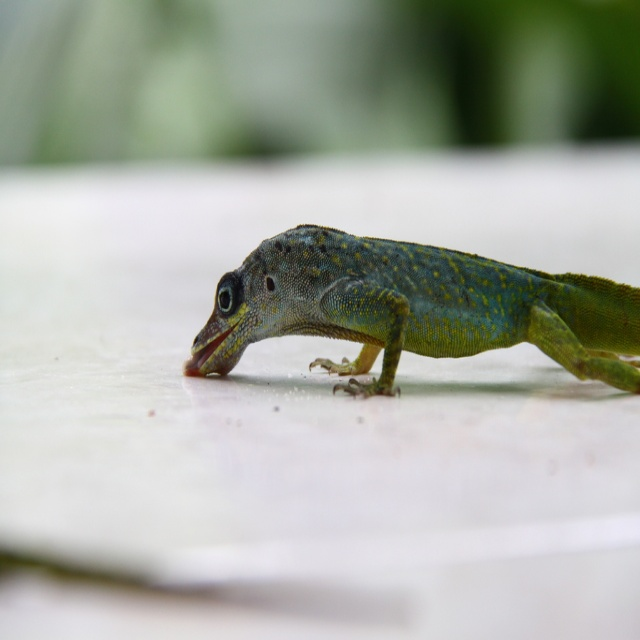Lizard: (193, 225, 636, 412)
